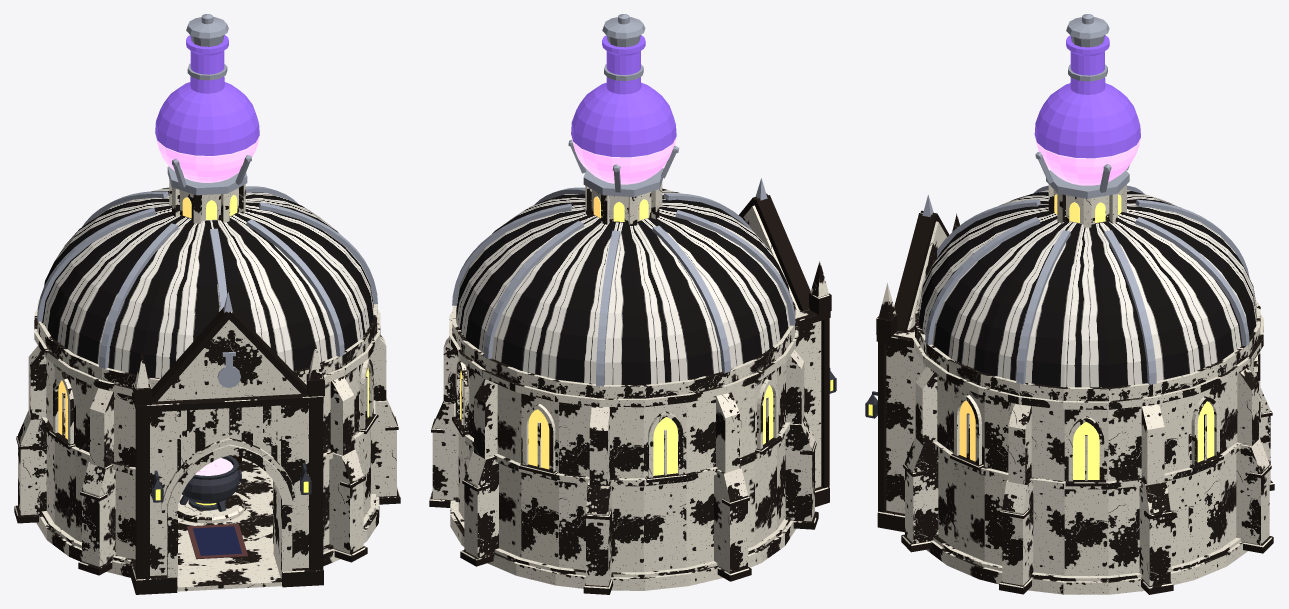
The model's file is ILHA3_16_CRAFT_545a69.fbx.
3 renders of one model, left to right at view 1: azimuth 30°, elevation 25°; view 2: azimuth 150°, elevation 25°; view 3: azimuth 270°, elevation 25°, orthographic.
Visible parts, largest first — view 1: SG_Craft_Dome__Roof_SG_Navy, SG_Craft_Shell__Stone_SG_Trim, SG_Craft_Shell__Stone_SG_Castle_B, SG_Craft_Shell__Stone_SG_Castle, SG_Craft_Dome__Metal_SG_Silver, SG_Craft_Flask__Glass_SG_Rose, SG_Craft_Shell__Stone_SG_Block, SG_Craft_Interior__Stone_SG_Floor, SG_Craft_Flask__SG_Violet_Glow, SG_Craft_Cauldron__Metal_SG_Iron, SG_Craft_Flask__Metal_SG_Silver, SG_Craft_Furnishings__Cloth_SG_Navy (+8 smaller); view 2: SG_Craft_Dome__Roof_SG_Navy, SG_Craft_Shell__Stone_SG_Castle_B, SG_Craft_Shell__Stone_SG_Trim, SG_Craft_Shell__Stone_SG_Castle, SG_Craft_Dome__Metal_SG_Silver, SG_Craft_Flask__Glass_SG_Rose, SG_Craft_Shell__Stone_SG_Block, SG_Craft_Shell__Window_Warm, SG_Craft_Flask__SG_Violet_Glow, SG_Craft_Flask__Metal_SG_Silver, SG_Craft_Dome__Stone_SG_Trim, SG_Craft_Dome__Stone_SG_Castle_B (+1 smaller); view 3: SG_Craft_Dome__Roof_SG_Navy, SG_Craft_Shell__Stone_SG_Castle_B, SG_Craft_Shell__Stone_SG_Trim, SG_Craft_Shell__Stone_SG_Castle, SG_Craft_Dome__Metal_SG_Silver, SG_Craft_Flask__Glass_SG_Rose, SG_Craft_Shell__Stone_SG_Block, SG_Craft_Shell__Window_Warm, SG_Craft_Flask__SG_Violet_Glow, SG_Craft_Flask__Metal_SG_Silver, SG_Craft_Dome__Stone_SG_Trim, SG_Craft_Dome__Stone_SG_Castle_B (+1 smaller).
Part boxes in pixels (x1,y1,x2,y2): SG_Craft_Dome__Roof_SG_Navy: [42, 187, 373, 378]; SG_Craft_Shell__Stone_SG_Trim: [16, 298, 398, 591]; SG_Craft_Shell__Stone_SG_Castle_B: [28, 319, 370, 580]; SG_Craft_Shell__Stone_SG_Castle: [18, 334, 396, 575]; SG_Craft_Dome__Metal_SG_Silver: [37, 166, 377, 368]; SG_Craft_Flask__Glass_SG_Rose: [155, 34, 259, 155]; SG_Craft_Shell__Stone_SG_Block: [14, 486, 400, 594]; SG_Craft_Interior__Stone_SG_Floor: [178, 458, 274, 565]; SG_Craft_Flask__SG_Violet_Glow: [155, 135, 259, 182]; SG_Craft_Cauldron__Metal_SG_Iron: [179, 455, 241, 511]; SG_Craft_Flask__Metal_SG_Silver: [172, 14, 251, 187]; SG_Craft_Furnishings__Cloth_SG_Navy: [188, 526, 241, 555]; SG_Craft_Dome__Roof_SG_Navy: [456, 188, 789, 384]; SG_Craft_Shell__Stone_SG_Castle_B: [458, 205, 828, 586]; SG_Craft_Shell__Stone_SG_Trim: [431, 193, 831, 577]; SG_Craft_Shell__Stone_SG_Castle: [432, 309, 821, 572]; SG_Craft_Dome__Metal_SG_Silver: [452, 168, 795, 386]; SG_Craft_Flask__Glass_SG_Rose: [571, 35, 676, 157]; SG_Craft_Shell__Stone_SG_Block: [429, 486, 829, 594]; SG_Craft_Shell__Window_Warm: [460, 370, 773, 475]; SG_Craft_Flask__SG_Violet_Glow: [571, 137, 676, 184]; SG_Craft_Flask__Metal_SG_Silver: [568, 14, 679, 192]; SG_Craft_Dome__Stone_SG_Trim: [585, 182, 662, 225]; SG_Craft_Dome__Stone_SG_Castle_B: [591, 189, 651, 222]; SG_Craft_Dome__Roof_SG_Navy: [919, 190, 1256, 387]; SG_Craft_Shell__Stone_SG_Castle_B: [878, 213, 1270, 575]; SG_Craft_Shell__Stone_SG_Trim: [876, 210, 1272, 581]; SG_Craft_Shell__Stone_SG_Castle: [905, 351, 1269, 585]; SG_Craft_Dome__Metal_SG_Silver: [925, 170, 1249, 384]; SG_Craft_Flask__Glass_SG_Rose: [1034, 35, 1140, 158]; SG_Craft_Shell__Stone_SG_Block: [877, 480, 1274, 594]; SG_Craft_Shell__Window_Warm: [959, 400, 1214, 479]; SG_Craft_Flask__SG_Violet_Glow: [1035, 138, 1140, 185]; SG_Craft_Flask__Metal_SG_Silver: [1035, 14, 1129, 192]; SG_Craft_Dome__Stone_SG_Trim: [1048, 184, 1126, 227]; SG_Craft_Dome__Stone_SG_Castle_B: [1053, 189, 1122, 224].
Size of the model in its own units: 28.1 by 42.08 by 30.79.
Materials: 17 (3 with a texture image).
